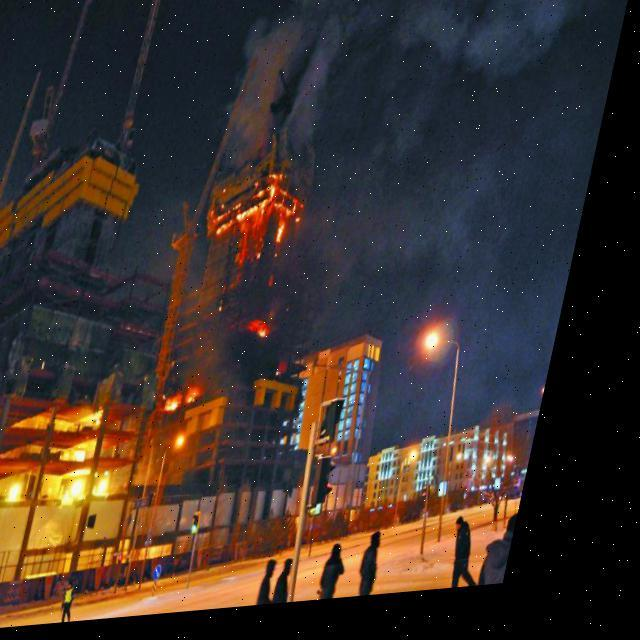Fire: (205, 175, 324, 284), (178, 392, 222, 418), (260, 320, 290, 348)
